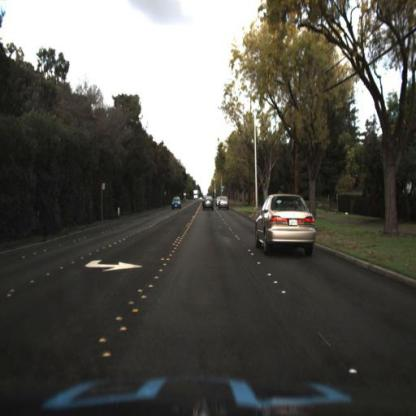car: (256, 196, 320, 258), (216, 191, 234, 217), (202, 192, 215, 213), (170, 193, 182, 212), (218, 196, 231, 210)
